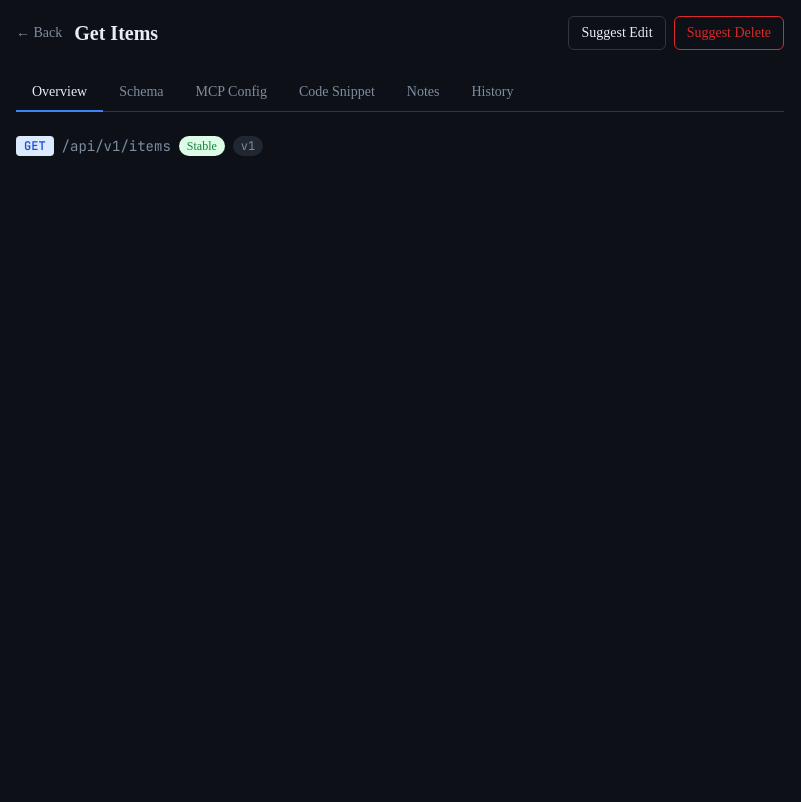
Test: ApiDetailPage — suggestion badge › shows Suggestion badge when suggester opens the edit form
Expected: the heading "Get Items" is shown, [74, 19, 158, 47]
Click the button "Suggest Edit": (617, 33) [568, 16, 666, 50]
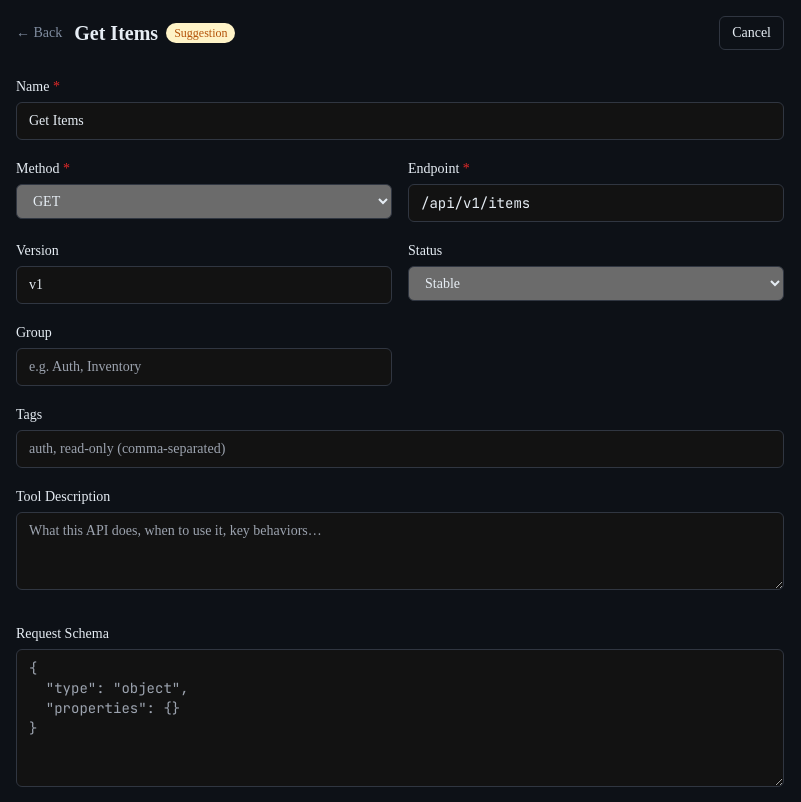
Now the text "Suggestion" is shown, box [166, 23, 235, 43]
